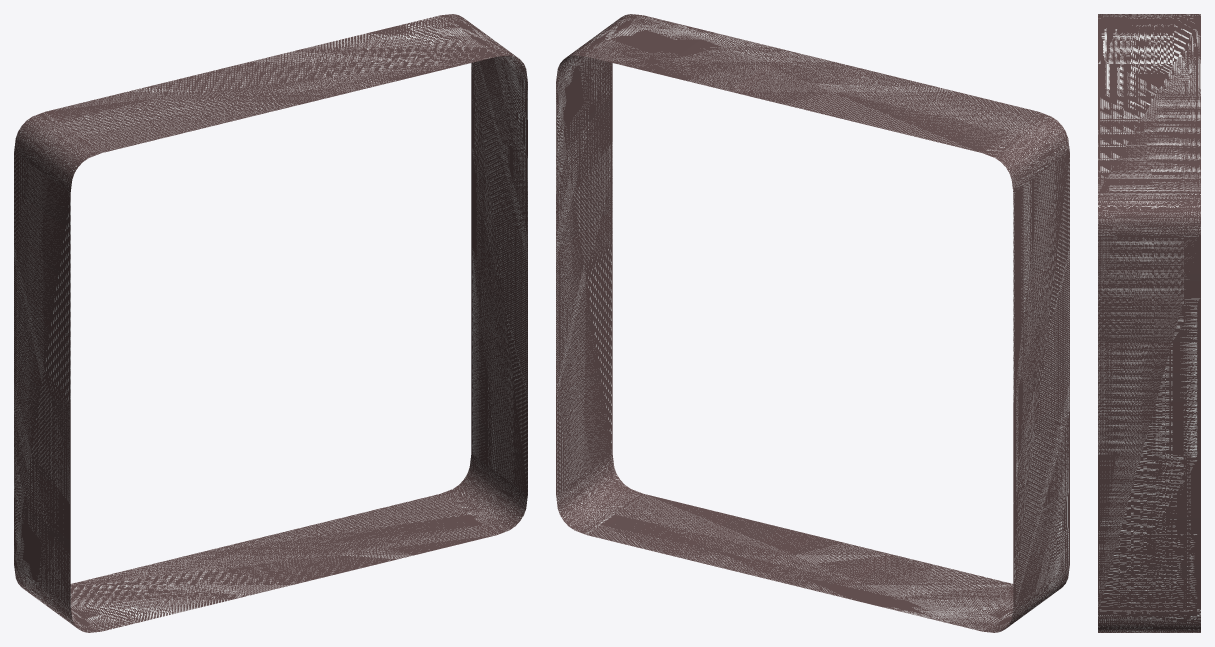
Rendered from original_3.obj.
The picture shows the model from 3 angles, left to right: view 1: azimuth 30°, elevation 25°; view 2: azimuth 150°, elevation 25°; view 3: azimuth 270°, elevation 25°; orthographic projection. The views are drawn at different scales.
Visible parts, largest first — view 1: #ID13; view 2: #ID13; view 3: #ID13.
Part boxes in pixels (x1,y1,x2,y2): #ID13: [14, 14, 527, 632]; #ID13: [556, 14, 1069, 632]; #ID13: [1098, 14, 1200, 632].
Size of the model in its own units: 1.09 by 1.09 by 0.2345.
